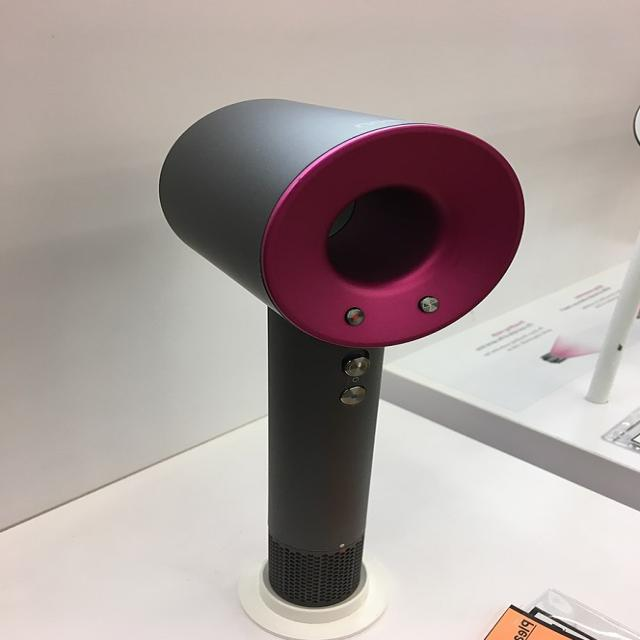dryer: (157, 95, 526, 608)
